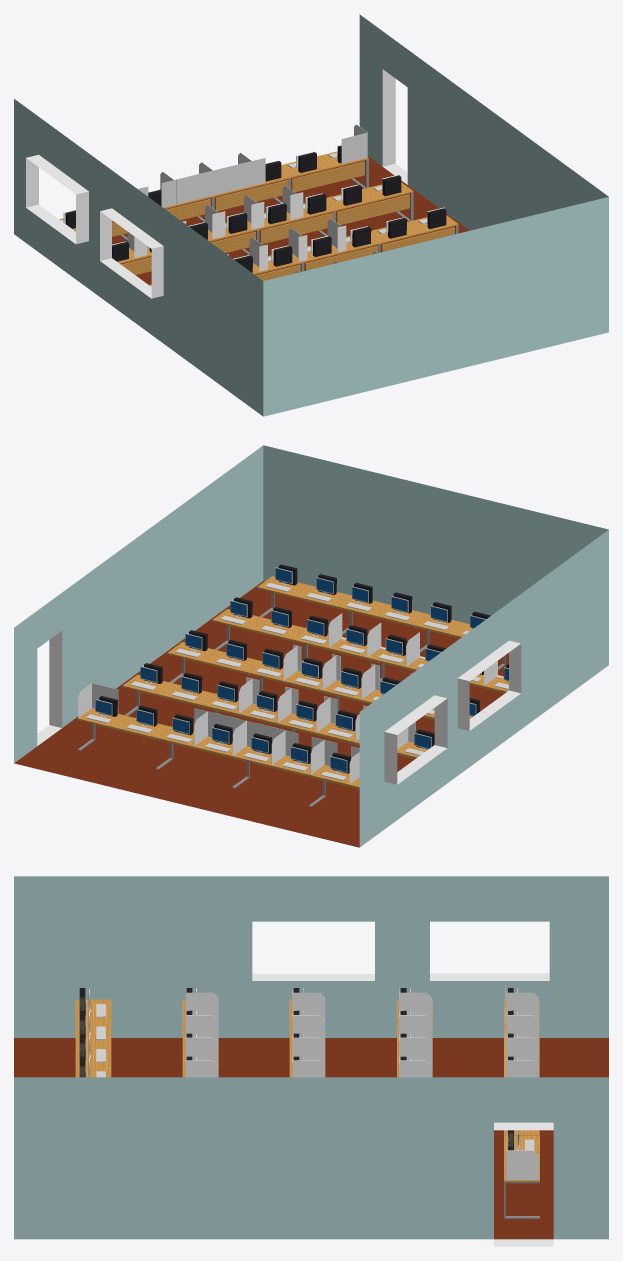
3 renders of one model, top to bottom at view 1: azimuth 30°, elevation 25°; view 2: azimuth 150°, elevation 25°; view 3: azimuth 270°, elevation 25°, orthographic. The views are drawn at different scales.
Visible parts, largest first — view 1: Walls, Floor, ModestyPanel, Cube, ModestyPanel.001, Window002, Window001, TableTop.001, TableTop, Plane.000, Cube.008, Doorway (+5 smaller); view 2: Walls, Floor, TableTop, Plane.000, object 15, TableTop.001, Cube, Cube.001, Window002, object 3, Window001, Cube.008 (+8 smaller); view 3: Walls, Floor, Plane.000, TableTop, Cube, Doorway, Plane.001, Window002, Window001, TableTop.001, Cube.001.
Part boxes in pixels (x1,y1,x2,y2): Walls: [14, 14, 608, 416]; Floor: [75, 156, 469, 284]; ModestyPanel: [112, 180, 377, 280]; Cube: [65, 161, 371, 272]; ModestyPanel.001: [291, 161, 454, 251]; Window002: [26, 154, 88, 244]; Window001: [100, 208, 163, 298]; TableTop.001: [281, 151, 458, 243]; TableTop: [59, 170, 381, 285]; Plane.000: [127, 152, 377, 273]; Cube.008: [298, 145, 446, 238]; Doorway: [382, 69, 407, 184]; Walls: [14, 445, 608, 847]; Floor: [14, 581, 508, 847]; TableTop: [155, 595, 508, 788]; Plane.000: [194, 613, 497, 783]; object 15: [172, 586, 508, 773]; TableTop.001: [77, 576, 348, 738]; Cube: [174, 582, 508, 773]; Cube.001: [166, 602, 508, 780]; Window002: [384, 695, 447, 784]; object 3: [95, 567, 333, 726]; Window001: [457, 640, 521, 730]; Cube.008: [99, 564, 336, 726]; Walls: [14, 876, 608, 1239]; Floor: [14, 1038, 608, 1239]; Plane.000: [185, 992, 538, 1077]; TableTop: [75, 999, 539, 1135]; Cube: [79, 988, 513, 1077]; Doorway: [494, 1122, 553, 1246]; Plane.001: [506, 1150, 538, 1180]; Window002: [430, 973, 549, 980]; Window001: [252, 974, 374, 980]; TableTop.001: [504, 1135, 539, 1181]; Cube.001: [96, 1004, 105, 1077].
Size of the model in its own units: 8.6 by 3 by 10.
Materials: 24 (6 with a texture image).
